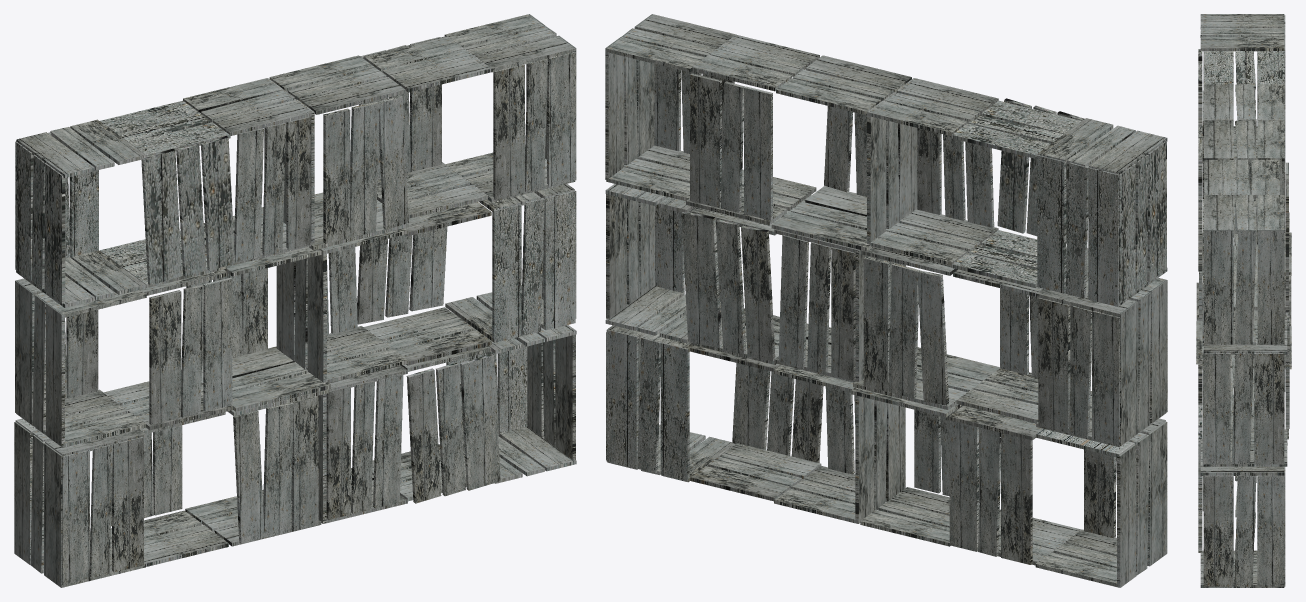
The model's file is bt3et_7mam5.dae.
3 renders of one model, left to right at view 1: azimuth 30°, elevation 25°; view 2: azimuth 150°, elevation 25°; view 3: azimuth 270°, elevation 25°, orthographic. The views are drawn at different scales.
Parts seen in each view (by area): view 1: box19, box9, box20, box17, box11, box6, box18, box1, box15, box7, box13, box8 (+6 smaller); view 2: box20, box6, box18, box14, box17, box19, box12, box16, box10, box8, box7, box11 (+6 smaller); view 3: box17, box1, box10, box11, box20, box14, box6, box9, box7, box8, box12, box13 (+3 smaller).
Part boxes in pixels (left/top/right/bottom): box19: left=14, top=418, right=145, bottom=587; box9: left=99, top=100, right=235, bottom=287; box20: left=15, top=119, right=145, bottom=307; box17: left=444, top=14, right=576, bottom=201; box11: left=261, top=55, right=408, bottom=250; box6: left=183, top=78, right=314, bottom=265; box18: left=15, top=278, right=146, bottom=447; box1: left=445, top=184, right=576, bottom=342; box15: left=103, top=269, right=233, bottom=430; box7: left=372, top=346, right=500, bottom=503; box13: left=185, top=389, right=329, bottom=546; box8: left=357, top=200, right=491, bottom=365; box20: left=1037, top=118, right=1167, bottom=306; box6: left=867, top=78, right=998, bottom=265; box18: left=1036, top=278, right=1167, bottom=447; box14: left=686, top=34, right=819, bottom=225; box17: left=605, top=14, right=736, bottom=200; box19: left=1035, top=418, right=1167, bottom=587; box12: left=853, top=247, right=999, bottom=409; box16: left=948, top=405, right=1081, bottom=565; box10: left=606, top=318, right=735, bottom=482; box8: left=681, top=195, right=811, bottom=364; box7: left=690, top=345, right=823, bottom=501; box11: left=771, top=55, right=911, bottom=251; box17: left=1202, top=194, right=1284, bottom=345; box1: left=1202, top=317, right=1287, bottom=466; box10: left=1200, top=438, right=1285, bottom=587; box11: left=1198, top=120, right=1291, bottom=275; box20: left=1200, top=14, right=1285, bottom=162; box14: left=1204, top=159, right=1291, bottom=310; box6: left=1202, top=84, right=1284, bottom=233; box9: left=1198, top=49, right=1284, bottom=201; box7: left=1198, top=400, right=1284, bottom=552; box8: left=1232, top=310, right=1289, bottom=429; box12: left=1196, top=206, right=1289, bottom=364; box13: left=1198, top=326, right=1291, bottom=481.
Size of the model in its own units: 34.42 by 6.39 by 26.47.
2 materials, 2 textured.
